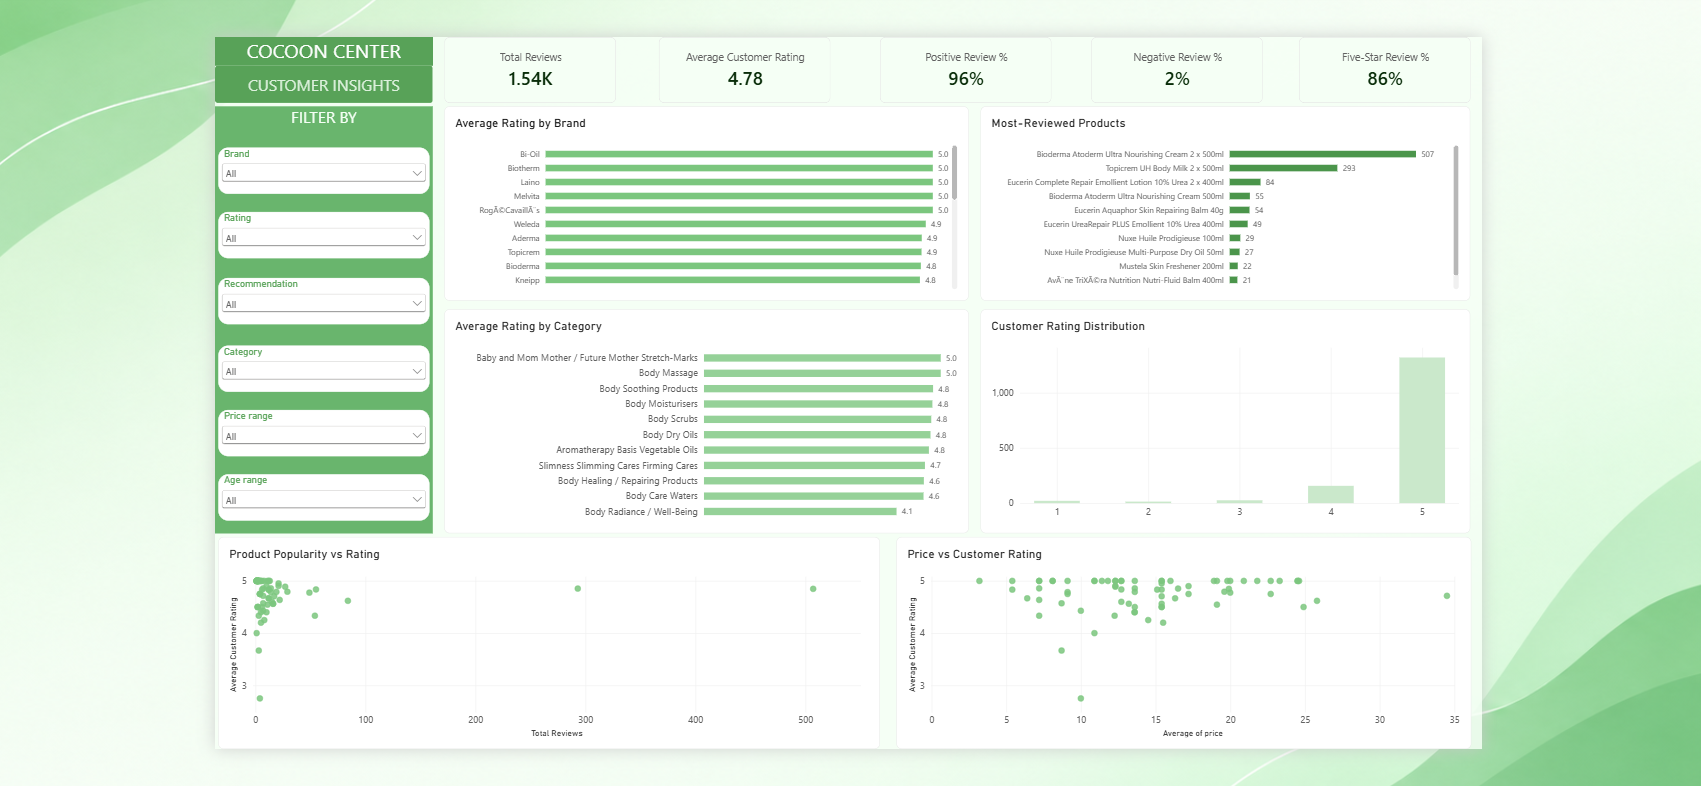

What the dashboard file says about the page in this screenshot:
{"tool":"powerbi","page":{"name":"Page 1","canvas":[1920,1080],"ordinal":0},"visuals":[{"type":"shape","box":[0,105.3,330,647.4],"z":0},{"type":"slicer","fields":{"Values":["Cocooncenter_pharmacy.product_cat"]},"box":[5.3,468.4,320,70],"z":1000},{"type":"slicer","title":"Brand","fields":{"Values":["Cocooncenter_pharmacy.brand"]},"box":[5.3,168.4,320,70],"z":2000},{"type":"slicer","fields":{"Values":["Cocooncenter_pharmacy.Rating Group"]},"box":[5.3,265.8,320,70],"z":3000},{"type":"slicer","fields":{"Values":["Cocooncenter_pharmacy.Price Band"]},"box":[5.3,565.8,320,70],"z":4000},{"type":"slicer","fields":{"Values":["Cocooncenter_pharmacy.age_group"]},"box":[5.3,663.2,320,70],"z":5000},{"type":"slicer","fields":{"Values":["Cocooncenter_pharmacy.Recommendation Status"]},"box":[5.3,365.8,320,70],"z":6000},{"type":"shape","title":"COCOON CENTER","box":[0,0,330,100],"z":7000},{"type":"cardVisual","fields":{"Data":["Cocooncenter_pharmacy.Total Reviews"]},"box":[347.4,0,260,100],"z":8000},{"type":"cardVisual","fields":{"Data":["Cocooncenter_pharmacy.Average Customer Rating"]},"box":[673.7,0,260,100],"z":9000},{"type":"cardVisual","fields":{"Data":["Cocooncenter_pharmacy.Positive Review %"]},"box":[1007.9,0,260,100],"z":10000},{"type":"cardVisual","fields":{"Data":["Cocooncenter_pharmacy.Negative Review %"]},"box":[1326.3,0,260,100],"z":11000},{"type":"cardVisual","fields":{"Data":["Cocooncenter_pharmacy.Five-Star Review %"]},"box":[1642.1,0,260,100],"z":12000},{"type":"clusteredColumnChart","title":"Customer Rating Distribution","fields":{"Category":["Cocooncenter_pharmacy.customer_rate"],"Y":["CountNonNull(Cocooncenter_pharmacy.customer_rate)"]},"box":[1160.5,413.2,742.1,339.5],"z":13000},{"type":"clusteredBarChart","title":"Average Rating by Brand","fields":{"Category":["Cocooncenter_pharmacy.brand"],"Y":["Cocooncenter_pharmacy.Average Customer Rating"]},"box":[347.4,105.3,794.7,294.7],"z":14000},{"type":"clusteredBarChart","title":"Average Rating by Category","fields":{"Category":["Cocooncenter_pharmacy.product_cat"],"Y":["Cocooncenter_pharmacy.Average Customer Rating"]},"box":[347.4,413.2,794.7,339.5],"z":15000},{"type":"clusteredBarChart","title":"Most-Reviewed Products","fields":{"Category":["Cocooncenter_pharmacy.description"],"Y":["Cocooncenter_pharmacy.Total Reviews"]},"box":[1160.5,105.3,742.1,294.7],"z":16000},{"type":"scatterChart","title":"Product Popularity vs Rating","fields":{"Category":["Cocooncenter_pharmacy.description"],"X":["Cocooncenter_pharmacy.Total Reviews"],"Y":["Cocooncenter_pharmacy.Average Customer Rating"]},"box":[5.3,757.9,1002.6,321.1],"z":17000},{"type":"scatterChart","title":"Price vs Customer Rating","fields":{"Category":["Cocooncenter_pharmacy.description"],"X":["Avg(Cocooncenter_pharmacy.price)"],"Y":["Cocooncenter_pharmacy.Average Customer Rating"]},"box":[1031.6,757.9,871.1,321.1],"z":18000}]}

Visuals, with their boxes on the page's 1920x1080 design canvas (x1, y1, x2, y2). These are canvas units, not pixel positions in the 1701x786 screenshot, which may show the page scaled, cropped or inside an application window:
shape: <box>0,105,330,753</box>
slicer - Cocooncenter_pharmacy.product_cat: <box>5,468,325,538</box>
"Brand" slicer: <box>5,168,325,238</box>
slicer - Cocooncenter_pharmacy.Rating Group: <box>5,266,325,336</box>
slicer - Cocooncenter_pharmacy.Price Band: <box>5,566,325,636</box>
slicer - Cocooncenter_pharmacy.age_group: <box>5,663,325,733</box>
slicer - Cocooncenter_pharmacy.Recommendation Status: <box>5,366,325,436</box>
"COCOON CENTER" shape: <box>0,0,330,100</box>
cardVisual - Cocooncenter_pharmacy.Total Reviews: <box>347,0,607,100</box>
cardVisual - Cocooncenter_pharmacy.Average Customer Rating: <box>674,0,934,100</box>
cardVisual - Cocooncenter_pharmacy.Positive Review %: <box>1008,0,1268,100</box>
cardVisual - Cocooncenter_pharmacy.Negative Review %: <box>1326,0,1586,100</box>
cardVisual - Cocooncenter_pharmacy.Five-Star Review %: <box>1642,0,1902,100</box>
"Customer Rating Distribution" clusteredColumnChart: <box>1160,413,1903,753</box>
"Average Rating by Brand" clusteredBarChart: <box>347,105,1142,400</box>
"Average Rating by Category" clusteredBarChart: <box>347,413,1142,753</box>
"Most-Reviewed Products" clusteredBarChart: <box>1160,105,1903,400</box>
"Product Popularity vs Rating" scatterChart: <box>5,758,1008,1079</box>
"Price vs Customer Rating" scatterChart: <box>1032,758,1903,1079</box>
